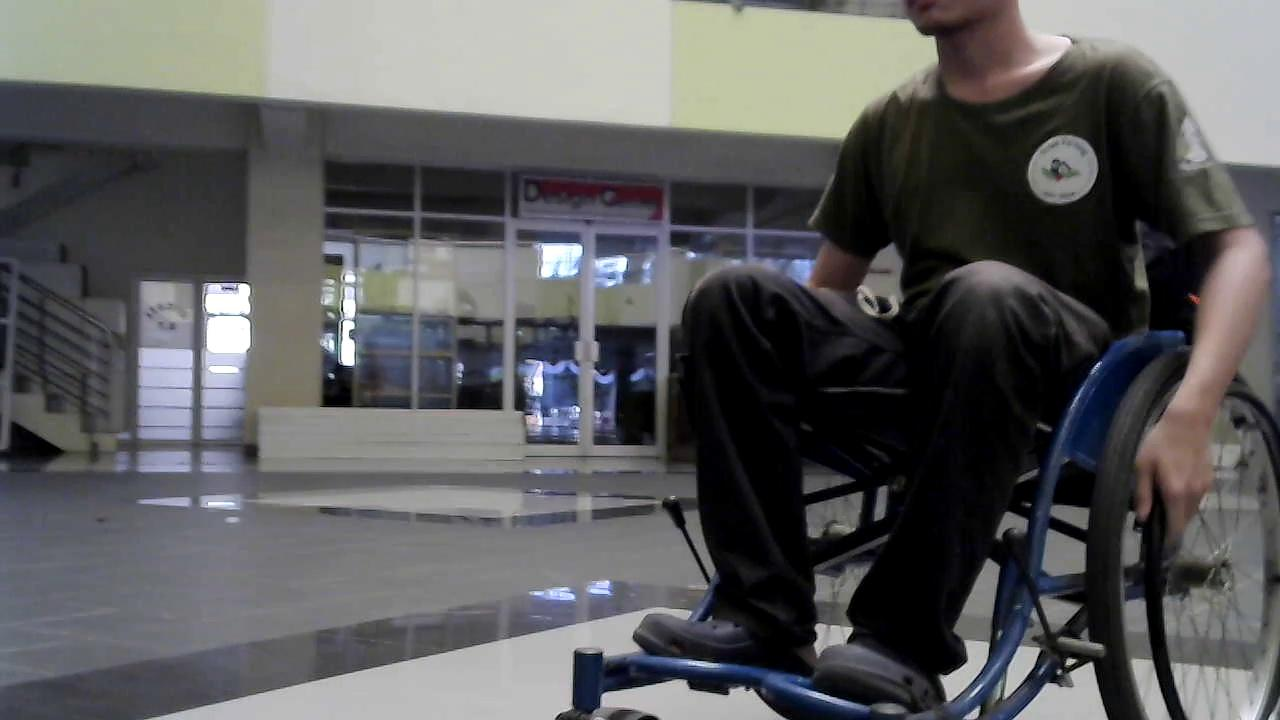person: (641, 3, 1277, 705)
wheelchair: (540, 175, 1280, 720)
